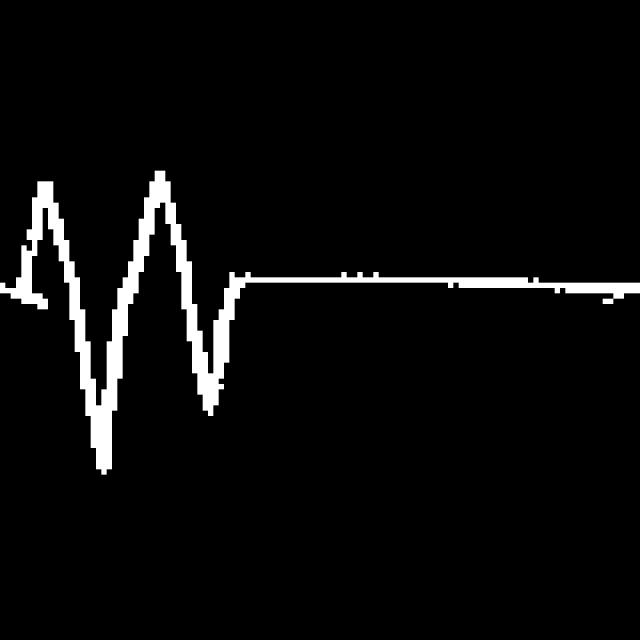resistor: (9, 167, 251, 490)
